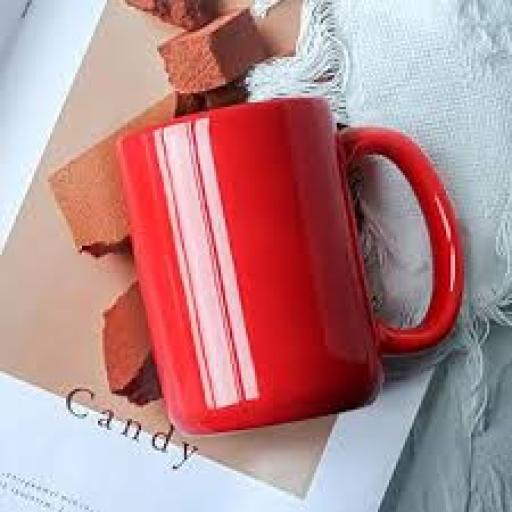red mug: (119, 98, 464, 434)
